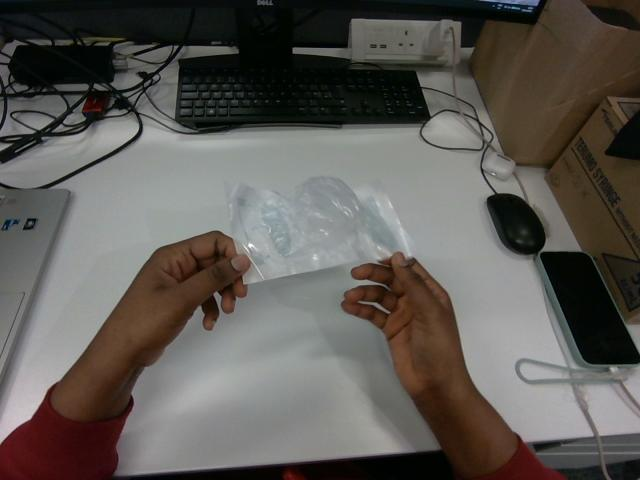gallipot: (226, 176, 411, 283)
